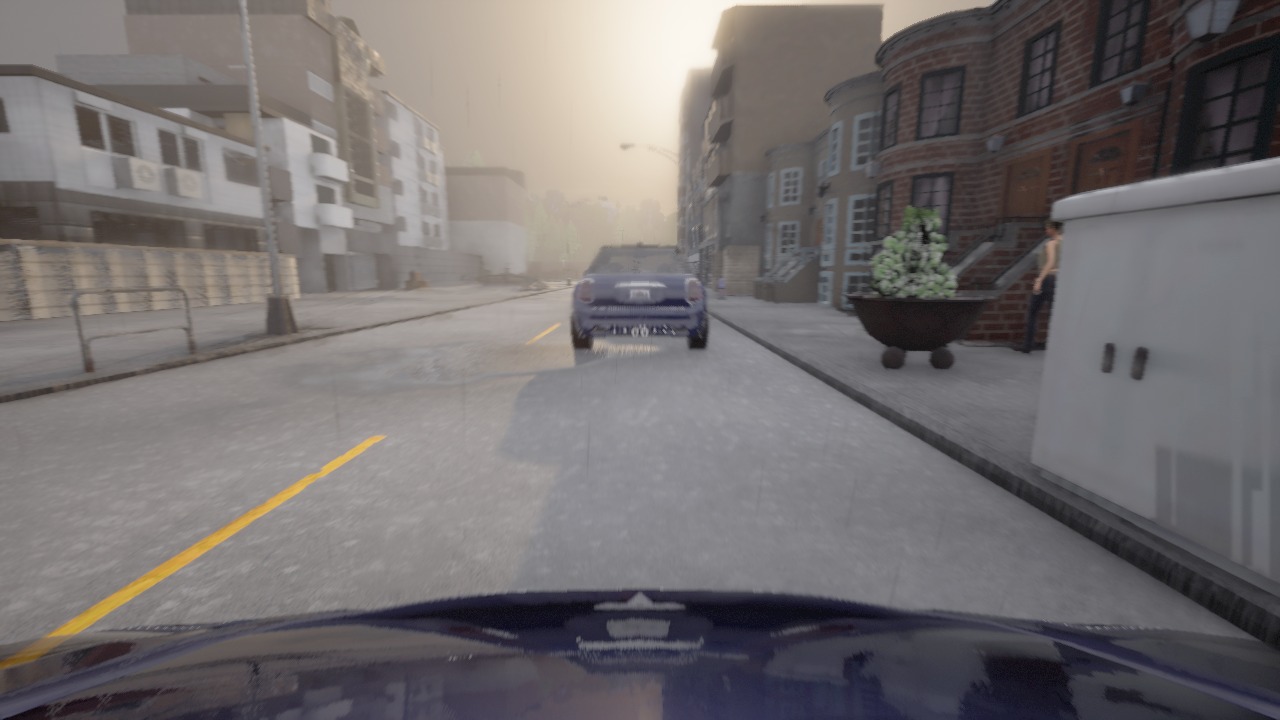cyclist: (0, 588, 1279, 719), (571, 240, 708, 350)
pedestrian: (1011, 218, 1064, 354), (718, 275, 725, 298)
